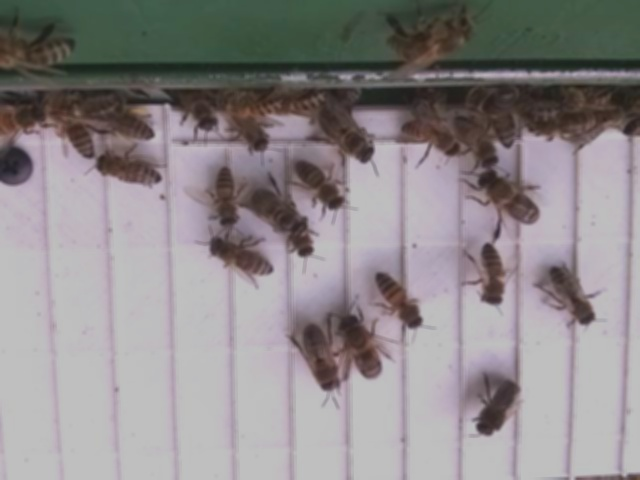Drone: (315, 103, 380, 168), (474, 167, 542, 229), (463, 377, 526, 440), (335, 313, 385, 383), (297, 322, 343, 396), (248, 185, 311, 239)
Worker: (207, 235, 280, 283), (290, 157, 349, 215), (548, 265, 600, 330), (396, 111, 462, 161), (374, 270, 424, 332), (455, 115, 505, 175), (98, 150, 166, 190), (473, 241, 508, 311), (98, 108, 160, 145), (57, 108, 96, 162), (223, 90, 289, 121), (530, 111, 602, 139), (211, 168, 241, 230)
